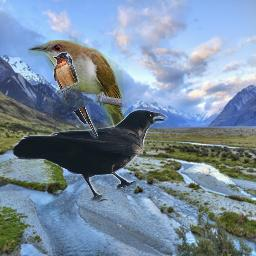Crow: (12, 109, 168, 201)
Cuckoo: (28, 40, 137, 157)
Swallow: (53, 52, 98, 139)
